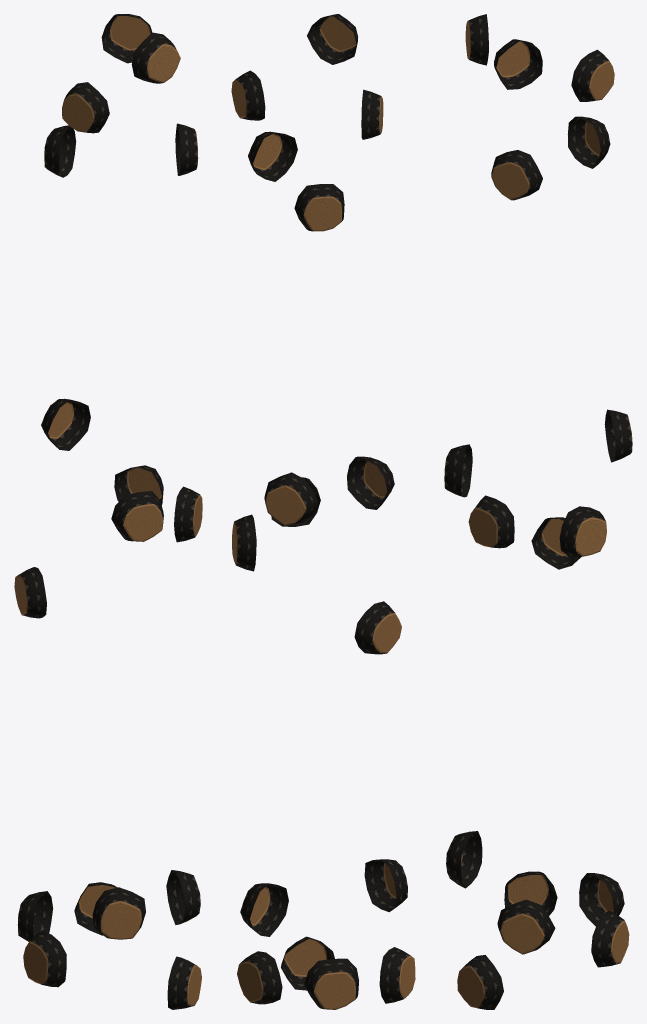
File: Sitka_Mature_03_MediumPruned_Recent_LOD2.fbx
The picture shows the model from 3 angles, left to right: view 1: azimuth 30°, elevation 25°; view 2: azimuth 150°, elevation 25°; view 3: azimuth 270°, elevation 25°; orthographic projection.
Parts seen in each view (by area): view 1: Sitka_Mature_03_MediumPruned_Recent_LOD2_Scars; view 2: Sitka_Mature_03_MediumPruned_Recent_LOD2_Scars; view 3: Sitka_Mature_03_MediumPruned_Recent_LOD2_Scars.
Boxes of the visible parts, left/top/right/bottom form: Sitka_Mature_03_MediumPruned_Recent_LOD2_Scars: left=14, top=14, right=202, bottom=1009; Sitka_Mature_03_MediumPruned_Recent_LOD2_Scars: left=231, top=14, right=415, bottom=1009; Sitka_Mature_03_MediumPruned_Recent_LOD2_Scars: left=444, top=14, right=632, bottom=1009.
Size of what is drawn, in the model's own units: 46.68 by 270 by 46.96.
2 materials, 2 textured.
